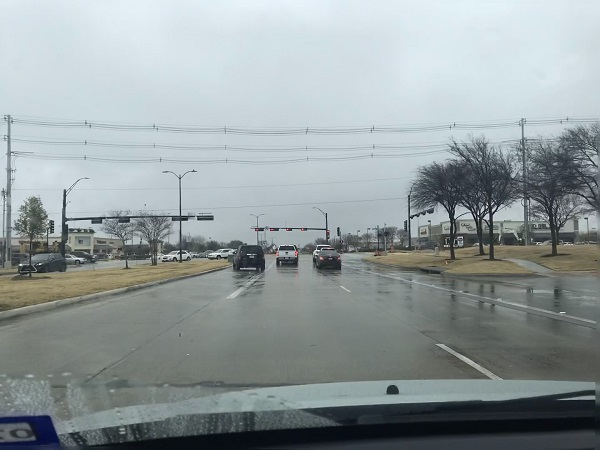car: (18, 252, 69, 272), (232, 245, 265, 269), (317, 248, 342, 265), (160, 248, 191, 261), (206, 248, 236, 259), (74, 251, 96, 262), (66, 252, 83, 263)
truck: (275, 245, 300, 262)
